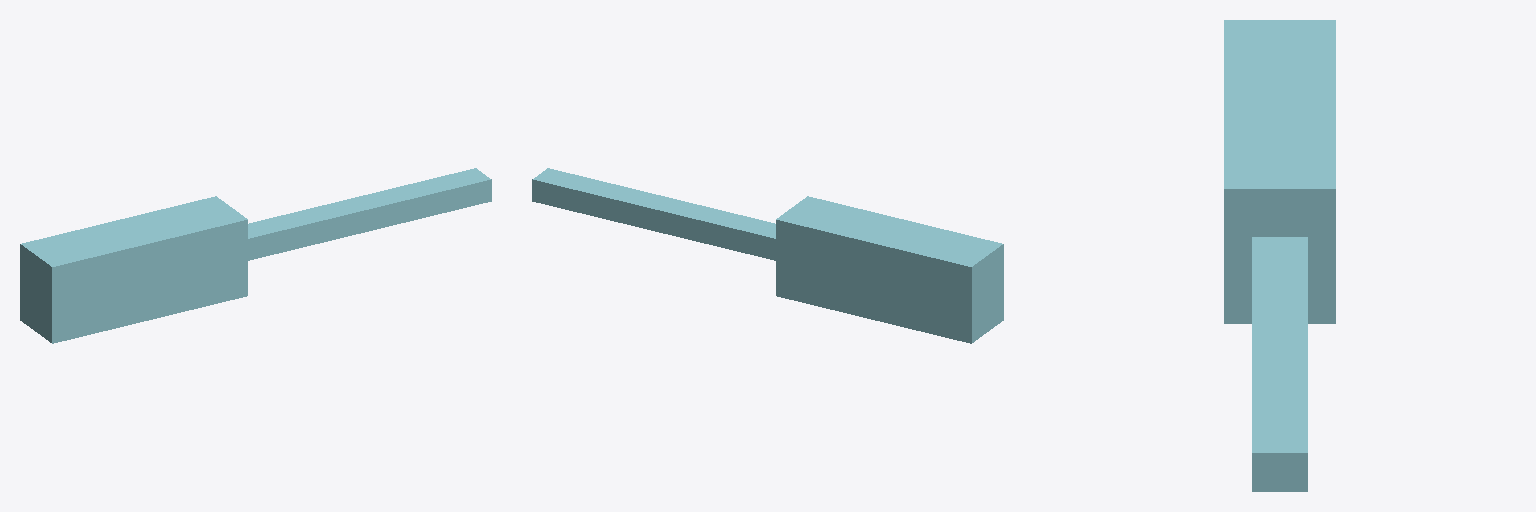
The robot description file, URDF, robot "cuboid_screwdriver_v2004":
<?xml version="1.0"?>
<robot name="cuboid_screwdriver_v2004">

  <link name="cuboid_screwdriver_v2004">
    <!-- Handle -->
    <visual>
      <origin xyz="0 0 0" rpy="0 0 0"/>
      <geometry>
        <box size="0.09905583046104512 0.027996634774900865 0.03706186789273394"/>
      </geometry>
      <material name="material">
        <color rgba="0.639 0.847 0.882 1.0"/>
      </material>
    </visual>
    <collision>
      <origin xyz="0 0 0" rpy="0 0 0"/>
      <geometry>
        <box size="0.09905583046104512 0.027996634774900865 0.03706186789273394"/>
      </geometry>
    </collision>

    <!-- Head -->
    <visual>
      <origin xyz="0.11314420041515463 0 0" rpy="0 0 0"/>
      <geometry>
        <box size="0.12723257036926414 0.013694920019577709 0.010655288757786567"/>
      </geometry>
      <material name="material">
        <color rgba="0.639 0.847 0.882 1.0"/>
      </material>
    </visual>
    <collision>
      <origin xyz="0.11314420041515463 0 0" rpy="0 0 0"/>
      <geometry>
        <box size="0.12723257036926414 0.013694920019577709 0.010655288757786567"/>
      </geometry>
    </collision>

    <inertial>
      <density value="400.0"/>
    </inertial>
  </link>

</robot>

--- Render facts (derived) ---
The picture shows the robot from 3 angles, left to right: view 1: azimuth 30°, elevation 25°; view 2: azimuth 150°, elevation 25°; view 3: azimuth 270°, elevation 25°; orthographic projection.
Robot: cuboid_screwdriver_v2004 — 1 links, 0 joints (none); root link cuboid_screwdriver_v2004; default pose: every joint at zero.
Visible links, largest first — view 1: cuboid_screwdriver_v2004; view 2: cuboid_screwdriver_v2004; view 3: cuboid_screwdriver_v2004.
Boxes of the visible links, left/top/right/bottom form: cuboid_screwdriver_v2004: left=20, top=168, right=491, bottom=343; cuboid_screwdriver_v2004: left=532, top=168, right=1003, bottom=343; cuboid_screwdriver_v2004: left=1224, top=20, right=1335, bottom=491.
Size in the robot's own frame: 0.2263 by 0.028 by 0.0371 metres.
Geometry: primitives only (box / cylinder / sphere), no mesh files.
